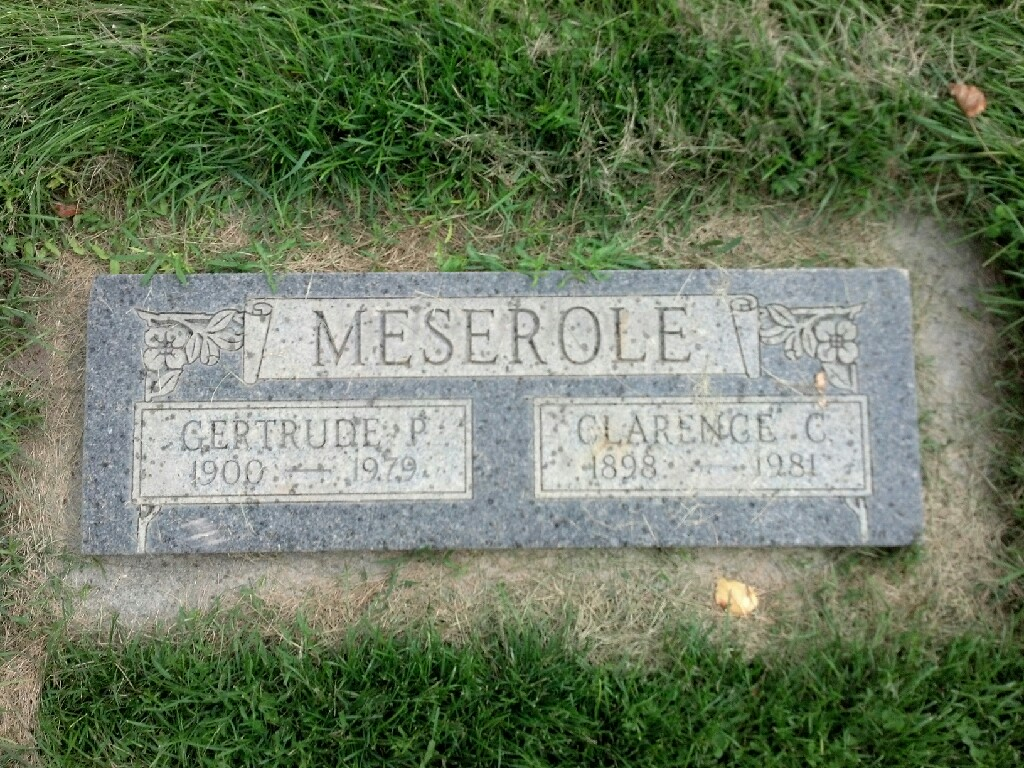flat: (77, 265, 928, 560)
